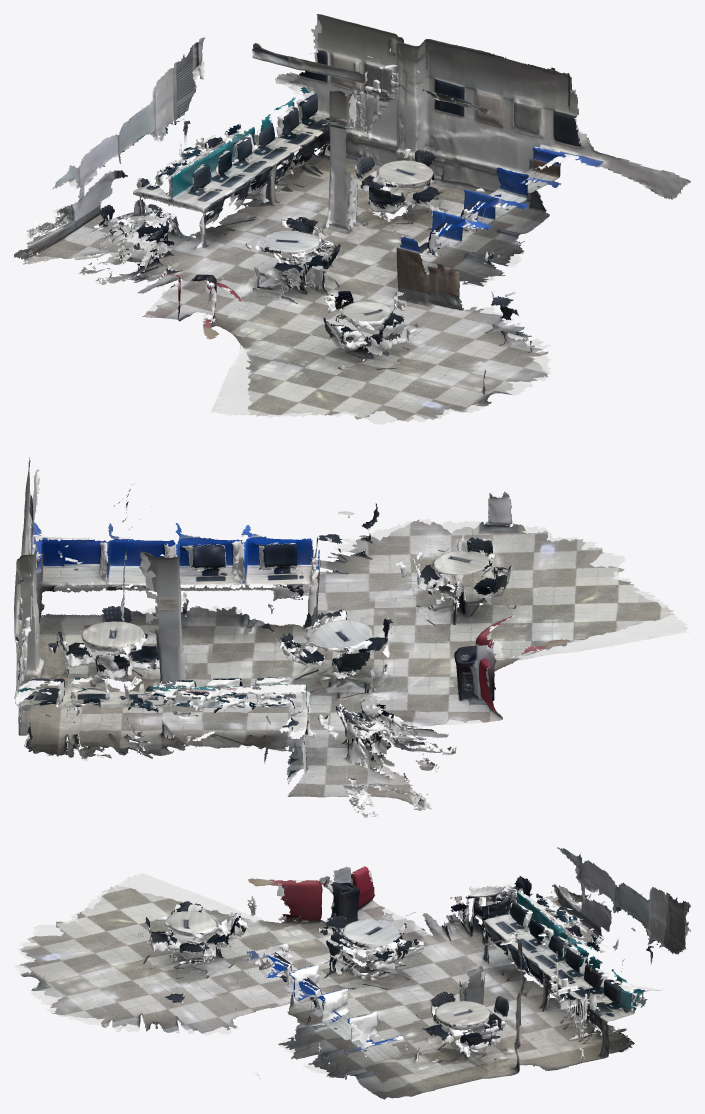
3 renders of one model, top to bottom at view 1: azimuth 30°, elevation 25°; view 2: azimuth 150°, elevation 25°; view 3: azimuth 270°, elevation 25°, orthographic. The views are drawn at different scales.
Parts seen in each view (by area): view 1: texture_8, object 1, texture_7, texture_1, texture_0, texture_2, texture_5, texture_3, texture_9, texture_6, texture_10, texture_4; view 2: object 1, texture_8, texture_7, texture_0, texture_2, texture_4, texture_5, texture_9, texture_10, texture_6, texture_3, texture_1; view 3: object 1, texture_7, texture_8, texture_0, texture_6, texture_2, texture_5, texture_10, texture_3, texture_4, texture_9, texture_1.
Boxes of the visible parts, x1,y1,x2,y2 form: texture_8: (246, 68, 548, 421); object 1: (21, 20, 681, 424); texture_7: (255, 164, 548, 393); texture_1: (292, 39, 533, 231); texture_0: (128, 38, 381, 366); texture_2: (182, 116, 690, 311); texture_5: (14, 121, 291, 289); texture_3: (250, 57, 578, 224); texture_9: (175, 14, 435, 218); texture_6: (22, 69, 411, 281); texture_10: (204, 43, 426, 236); texture_4: (265, 158, 659, 306); object 1: (14, 468, 690, 816); texture_8: (15, 491, 674, 752); texture_7: (90, 503, 568, 698); texture_0: (136, 554, 569, 747); texture_2: (32, 469, 457, 742); texture_4: (32, 486, 341, 688); texture_5: (132, 677, 456, 817); texture_9: (14, 549, 218, 758); texture_10: (19, 526, 315, 755); texture_6: (96, 586, 430, 810); texture_3: (15, 457, 202, 758); texture_1: (14, 483, 181, 748); object 1: (14, 866, 690, 1078); texture_7: (101, 898, 487, 1058); texture_8: (19, 885, 648, 1070); texture_0: (150, 866, 690, 995); texture_6: (379, 847, 685, 1054); texture_2: (197, 899, 529, 1099); texture_5: (423, 871, 653, 1017); texture_10: (394, 895, 640, 1069); texture_3: (388, 964, 639, 1090); texture_4: (246, 938, 518, 1074); texture_9: (490, 902, 689, 1070); texture_1: (391, 914, 647, 1076).
Bounding box in the file's own units: 10.05 × 2.64 × 11.27.
Materials: 12 (11 with a texture image).
